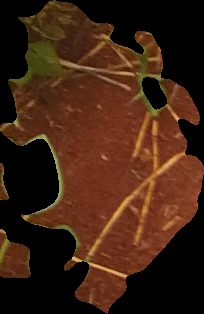soil: (2, 4, 200, 310)
